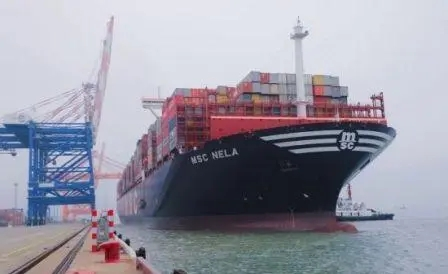Cargoship: (113, 19, 395, 229)
otherboat: (332, 184, 398, 221)
